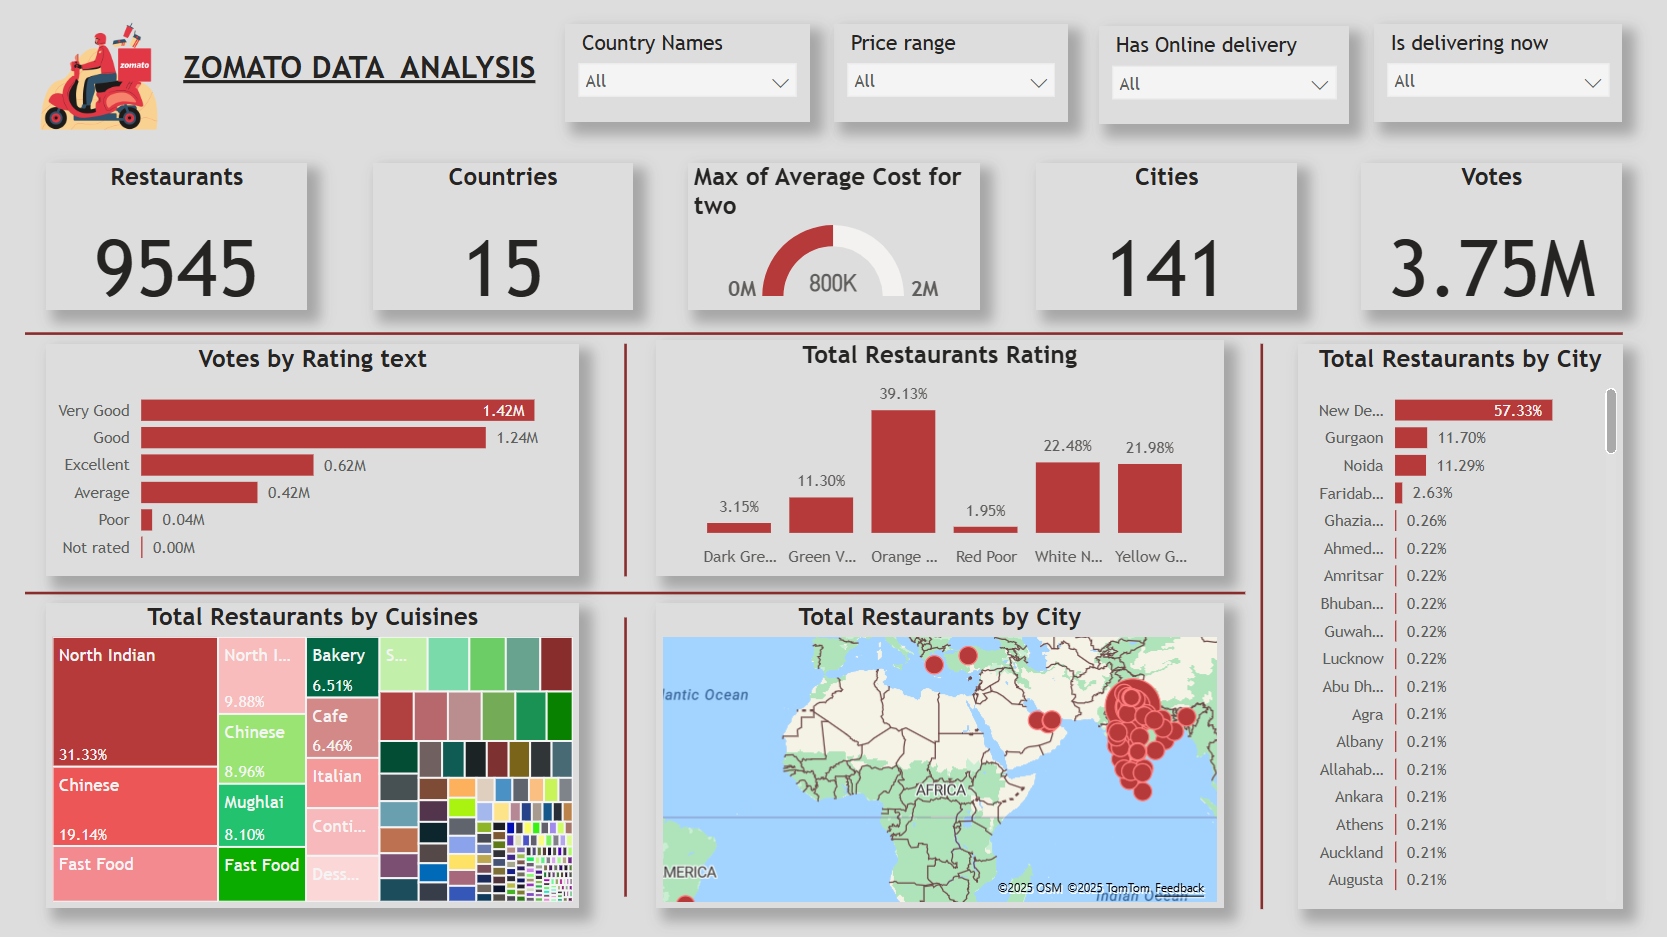

The dashboard page shown, as its layout file describes it:
{"tool":"powerbi","page":{"name":"Page 1","canvas":[1280,720],"ordinal":0},"visuals":[{"type":"slicer","fields":{"Values":["zomato.Country Names"]},"box":[433.6,17.8,188,75.5],"z":0},{"type":"slicer","fields":{"Values":["zomato.Is delivering now"]},"box":[1053.9,17.8,190.7,75.5],"z":1000},{"type":"slicer","fields":{"Values":["zomato.Price range"]},"box":[639.5,17.8,179.8,75.5],"z":2000},{"type":"slicer","fields":{"Values":["zomato.Has Online delivery"]},"box":[842.5,20.6,192.1,75.5],"z":3000},{"type":"cardVisual","title":"Restaurants","fields":{"Data":["zomato.Total Restaurants"]},"box":[35.7,124.9,200.3,112.5],"z":4000},{"type":"cardVisual","title":"Votes","fields":{"Data":["Sum(zomato.Votes)"]},"box":[1044.3,124.9,200.3,112.5],"z":5000},{"type":"cardVisual","title":"Cities","fields":{"Data":["zomato.Total Cities"]},"box":[794.5,124.9,200.3,112.5],"z":6000},{"type":"cardVisual","title":"Countries","fields":{"Data":["zomato.Total Country"]},"box":[285.4,124.9,200.3,112.5],"z":7000},{"type":"clusteredBarChart","title":"Total Restaurants by City","fields":{"Category":["zomato.City"],"Y":["zomato.Total Restaurants"]},"box":[994.9,263.5,249.7,433.6],"z":8000},{"type":"treemap","title":"Total Restaurants by Cuisines","fields":{"Group":["zomato.Cuisines"],"Values":["zomato.Total Restaurants"]},"box":[35.7,462.4,408.9,234.6],"z":9000},{"type":"azureMap","fields":{"Size":["zomato.Total Restaurants"],"Category":["zomato.City"]},"box":[503.6,462.4,435,234.6],"z":10000},{"type":"columnChart","title":"Total Restaurants Rating","fields":{"Category":["zomato.Rating color","zomato.Rating text"],"Y":["zomato.Total Restaurants"]},"box":[503.6,260.7,435,181.1],"z":11000},{"type":"clusteredBarChart","title":"Votes by Rating text","fields":{"Category":["zomato.Rating text"],"Y":["Sum(zomato.Votes)"]},"box":[35.7,263.5,408.9,178.4],"z":12000},{"type":"gauge","fields":{"Y":["Max(zomato.Average Cost for two)"]},"box":[526.9,124.9,223.7,112.5],"z":13000},{"type":"textbox","box":[129,32.9,292.3,46.7],"z":14000},{"type":"image","box":[0,0,152.3,116.6],"z":15000},{"type":"shape","box":[19.2,448.7,935.9,12.3],"z":16000},{"type":"shape","box":[19.2,248.4,1225.4,15.1],"z":17000},{"type":"shape","box":[961.9,263.5,12.3,433.6],"z":18000},{"type":"shape","box":[473.4,473.4,12.3,214.1],"z":19000},{"type":"shape","box":[473.4,263.5,12.3,178.4],"z":20000}]}

Visuals, with their boxes in screenshot pixels (x1, y1, x2, y2), scaled from the page's 1280x720 canvas onto the 1667x937 screenshot:
slicer - zomato.Country Names: l=565, t=23, r=810, b=121
slicer - zomato.Is delivering now: l=1373, t=23, r=1621, b=121
slicer - zomato.Price range: l=833, t=23, r=1067, b=121
slicer - zomato.Has Online delivery: l=1097, t=27, r=1347, b=125
"Restaurants" cardVisual: l=46, t=163, r=307, b=309
"Votes" cardVisual: l=1360, t=163, r=1621, b=309
"Cities" cardVisual: l=1035, t=163, r=1296, b=309
"Countries" cardVisual: l=372, t=163, r=633, b=309
"Total Restaurants by City" clusteredBarChart: l=1296, t=343, r=1621, b=907
"Total Restaurants by Cuisines" treemap: l=46, t=602, r=579, b=907
azureMap - zomato.Total Restaurants x zomato.City: l=656, t=602, r=1222, b=907
"Total Restaurants Rating" columnChart: l=656, t=339, r=1222, b=575
"Votes by Rating text" clusteredBarChart: l=46, t=343, r=579, b=575
gauge - Max(zomato.Average Cost for two): l=686, t=163, r=978, b=309
textbox: l=168, t=43, r=549, b=104
image: l=0, t=0, r=198, b=152
shape: l=25, t=584, r=1244, b=600
shape: l=25, t=323, r=1621, b=343
shape: l=1253, t=343, r=1269, b=907
shape: l=617, t=616, r=633, b=895
shape: l=617, t=343, r=633, b=575
